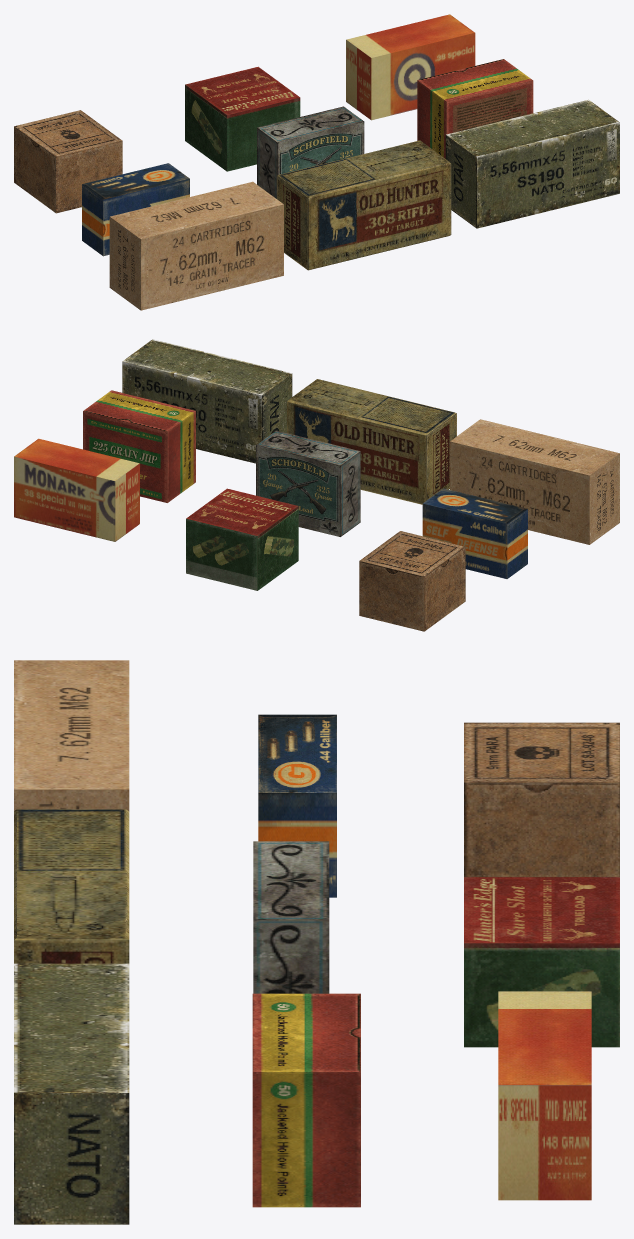
File: Ammo Boxes.fbx
3 renders of one model, top to bottom at view 1: azimuth 30°, elevation 25°; view 2: azimuth 150°, elevation 25°; view 3: azimuth 270°, elevation 25°, orthographic. The views are drawn at different scales.
Visible parts, largest first — view 1: 7.62Cal, 308Cal, 5.56Cal, 38Cal, 9Cal, 12Cal, 45Cal, 20Cal, 44Cal; view 2: 7.62Cal, 308Cal, 5.56Cal, 38Cal, 12Cal, 45Cal, 9Cal, 20Cal, 44Cal; view 3: 5.56Cal, 9Cal, 45Cal, 12Cal, 38Cal, 308Cal, 7.62Cal, 20Cal, 44Cal.
Boxes of the visible parts, <box> form: 7.62Cal: <box>109,181,283,310</box>; 308Cal: <box>277,140,451,270</box>; 5.56Cal: <box>445,99,619,228</box>; 38Cal: <box>346,14,475,120</box>; 9Cal: <box>14,110,122,213</box>; 12Cal: <box>185,66,300,171</box>; 45Cal: <box>417,59,533,158</box>; 20Cal: <box>257,106,364,198</box>; 44Cal: <box>82,163,189,256</box>; 7.62Cal: <box>450,419,619,544</box>; 308Cal: <box>287,379,456,504</box>; 5.56Cal: <box>122,339,292,463</box>; 38Cal: <box>14,438,139,541</box>; 12Cal: <box>186,488,298,590</box>; 45Cal: <box>83,390,195,502</box>; 9Cal: <box>359,531,465,631</box>; 20Cal: <box>256,430,360,536</box>; 44Cal: <box>422,488,527,578</box>; 5.56Cal: <box>14,963,129,1224</box>; 9Cal: <box>464,722,619,876</box>; 45Cal: <box>252,993,360,1207</box>; 12Cal: <box>464,877,619,1047</box>; 38Cal: <box>498,991,591,1200</box>; 308Cal: <box>14,809,129,963</box>; 7.62Cal: <box>14,660,129,810</box>; 20Cal: <box>253,841,329,993</box>; 44Cal: <box>258,714,336,897</box>.
Size of the model in its own units: 6529 by 966 by 3864.
